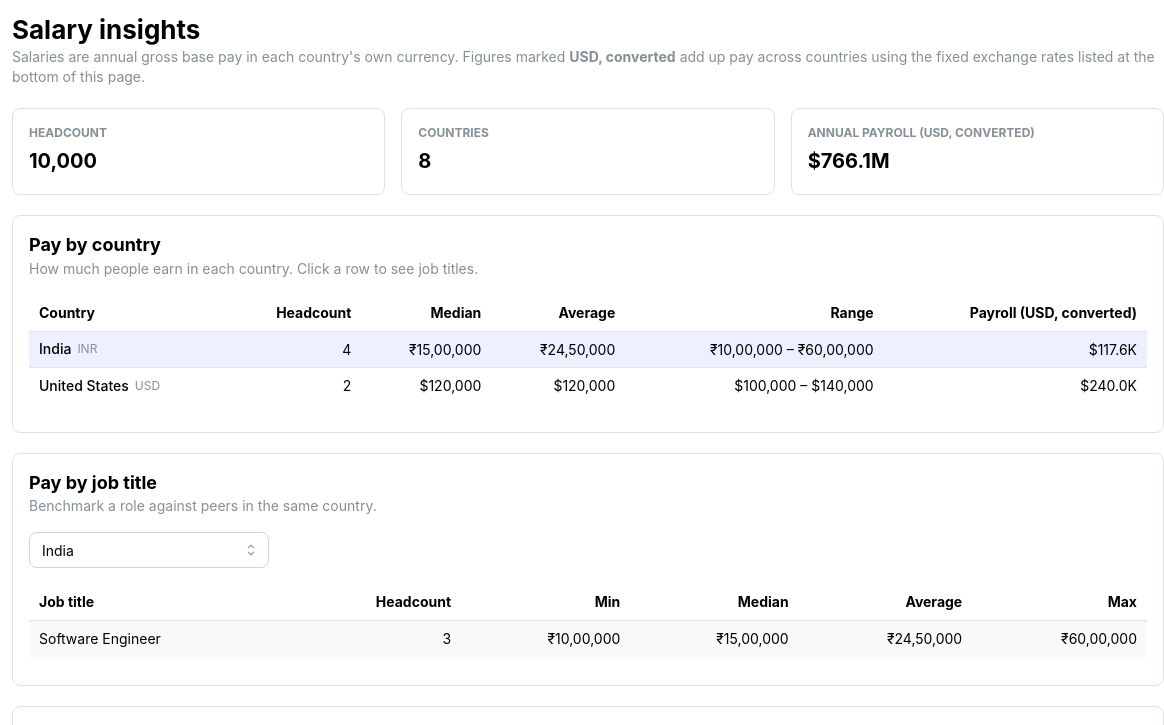
Scenario: InsightsPage › drills into job titles for the largest country, then for a clicked country
Check: the text "Software Engineer" is shown, box [29,620,288,657]
Click the row "United States" at [588, 386], box [29,368,1147,404]
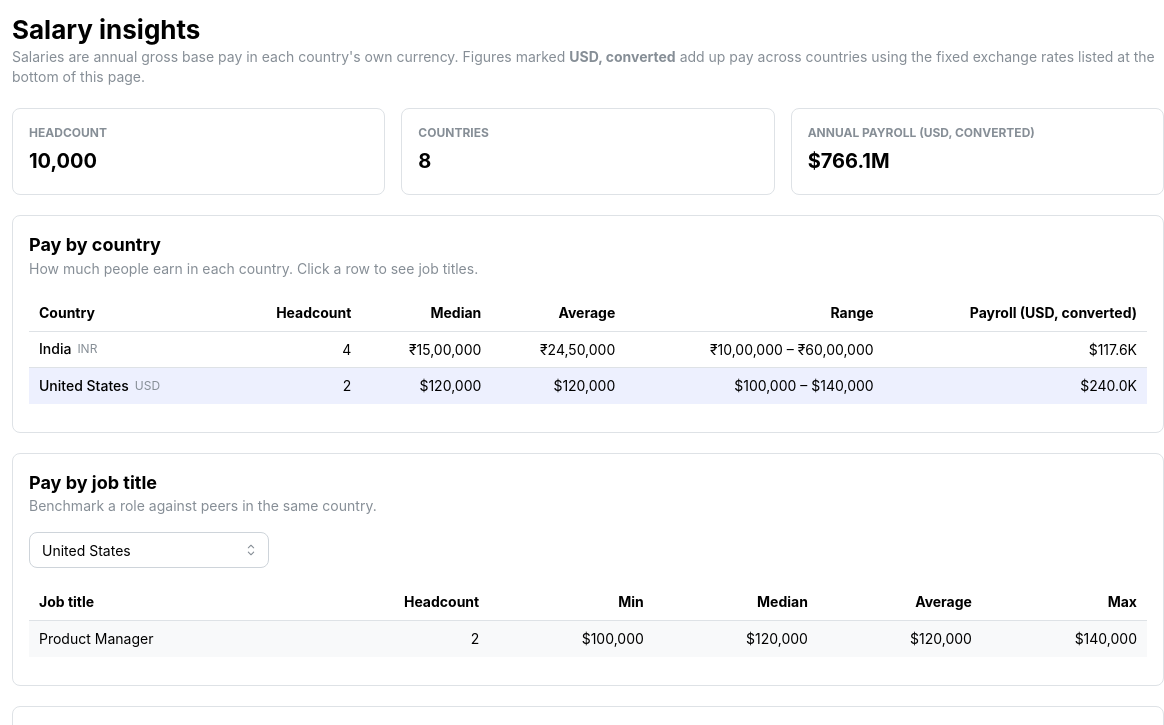
Check: the text "Product Manager" is shown, box [29,620,298,657]
